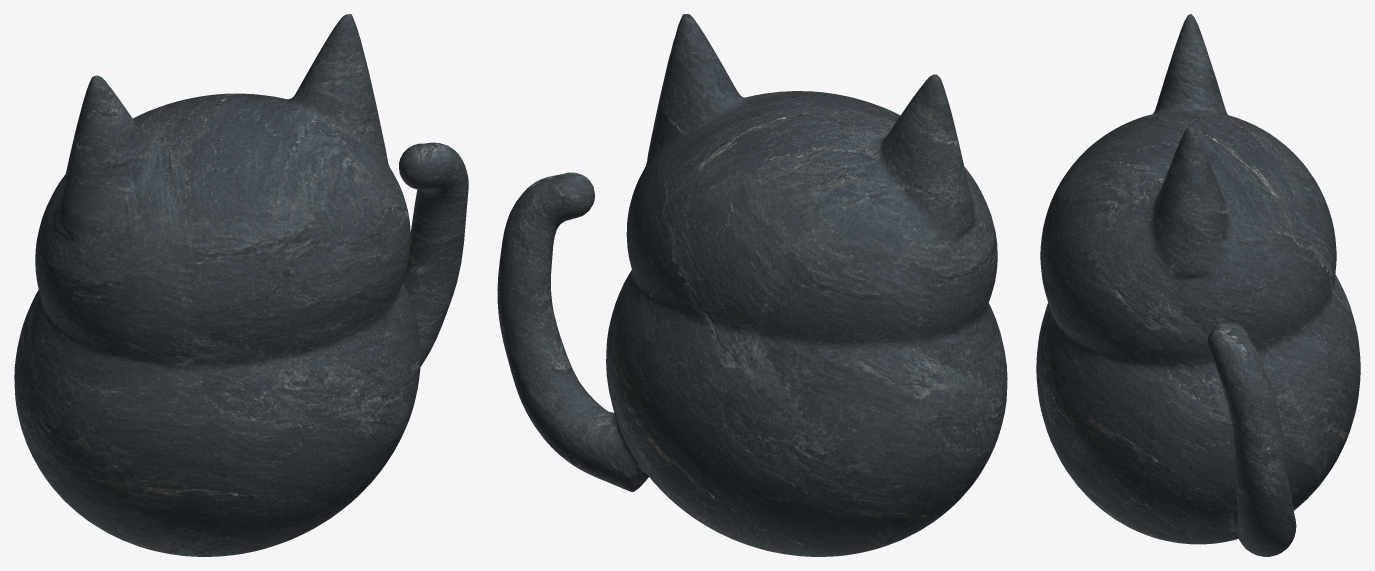
Rendered from cat-junior-slate.glb.
The picture shows the model from 3 angles, left to right: view 1: azimuth 30°, elevation 25°; view 2: azimuth 150°, elevation 25°; view 3: azimuth 270°, elevation 25°; orthographic projection. The views are drawn at different scales.
Parts seen in each view (by area): view 1: cat-junior-slate; view 2: cat-junior-slate; view 3: cat-junior-slate.
Boxes of the visible parts, x1,y1,x2,y2 form: cat-junior-slate: (14,14,468,556); cat-junior-slate: (497,14,1007,556); cat-junior-slate: (1036,14,1360,556).
Size of the model in its own units: 0.0241 by 0.0247 by 0.0162.
Materials: 1 (1 with a texture image).
